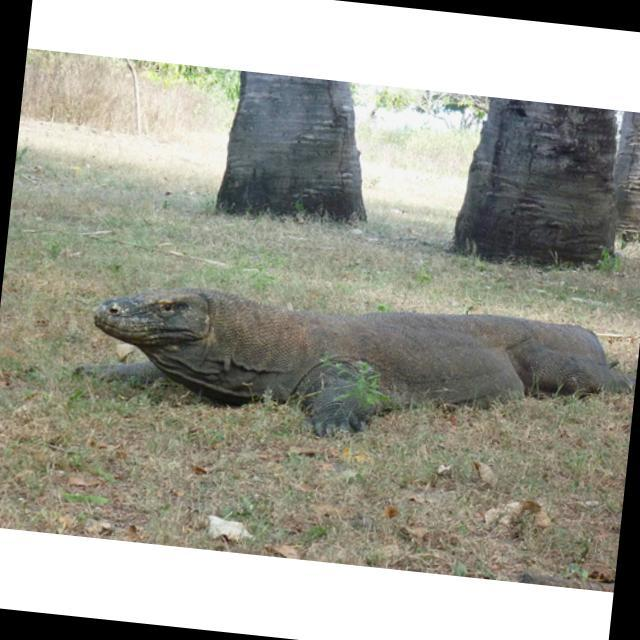KomodoDragon: (86, 275, 639, 469)
